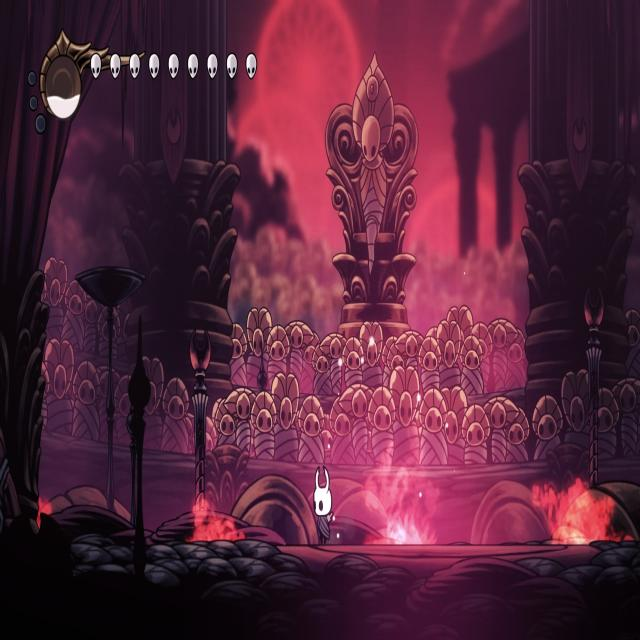Player: (312, 460, 337, 546)
